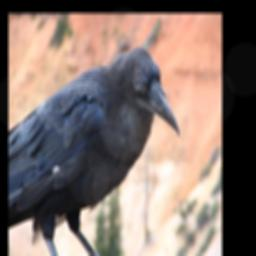Crow: (9, 41, 180, 256)
